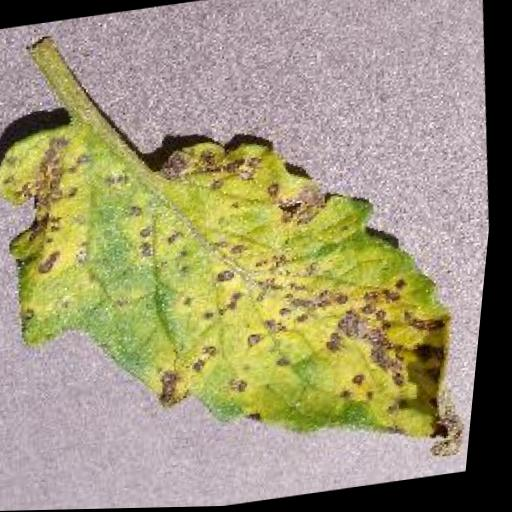Septoria: (0, 65, 502, 512)
